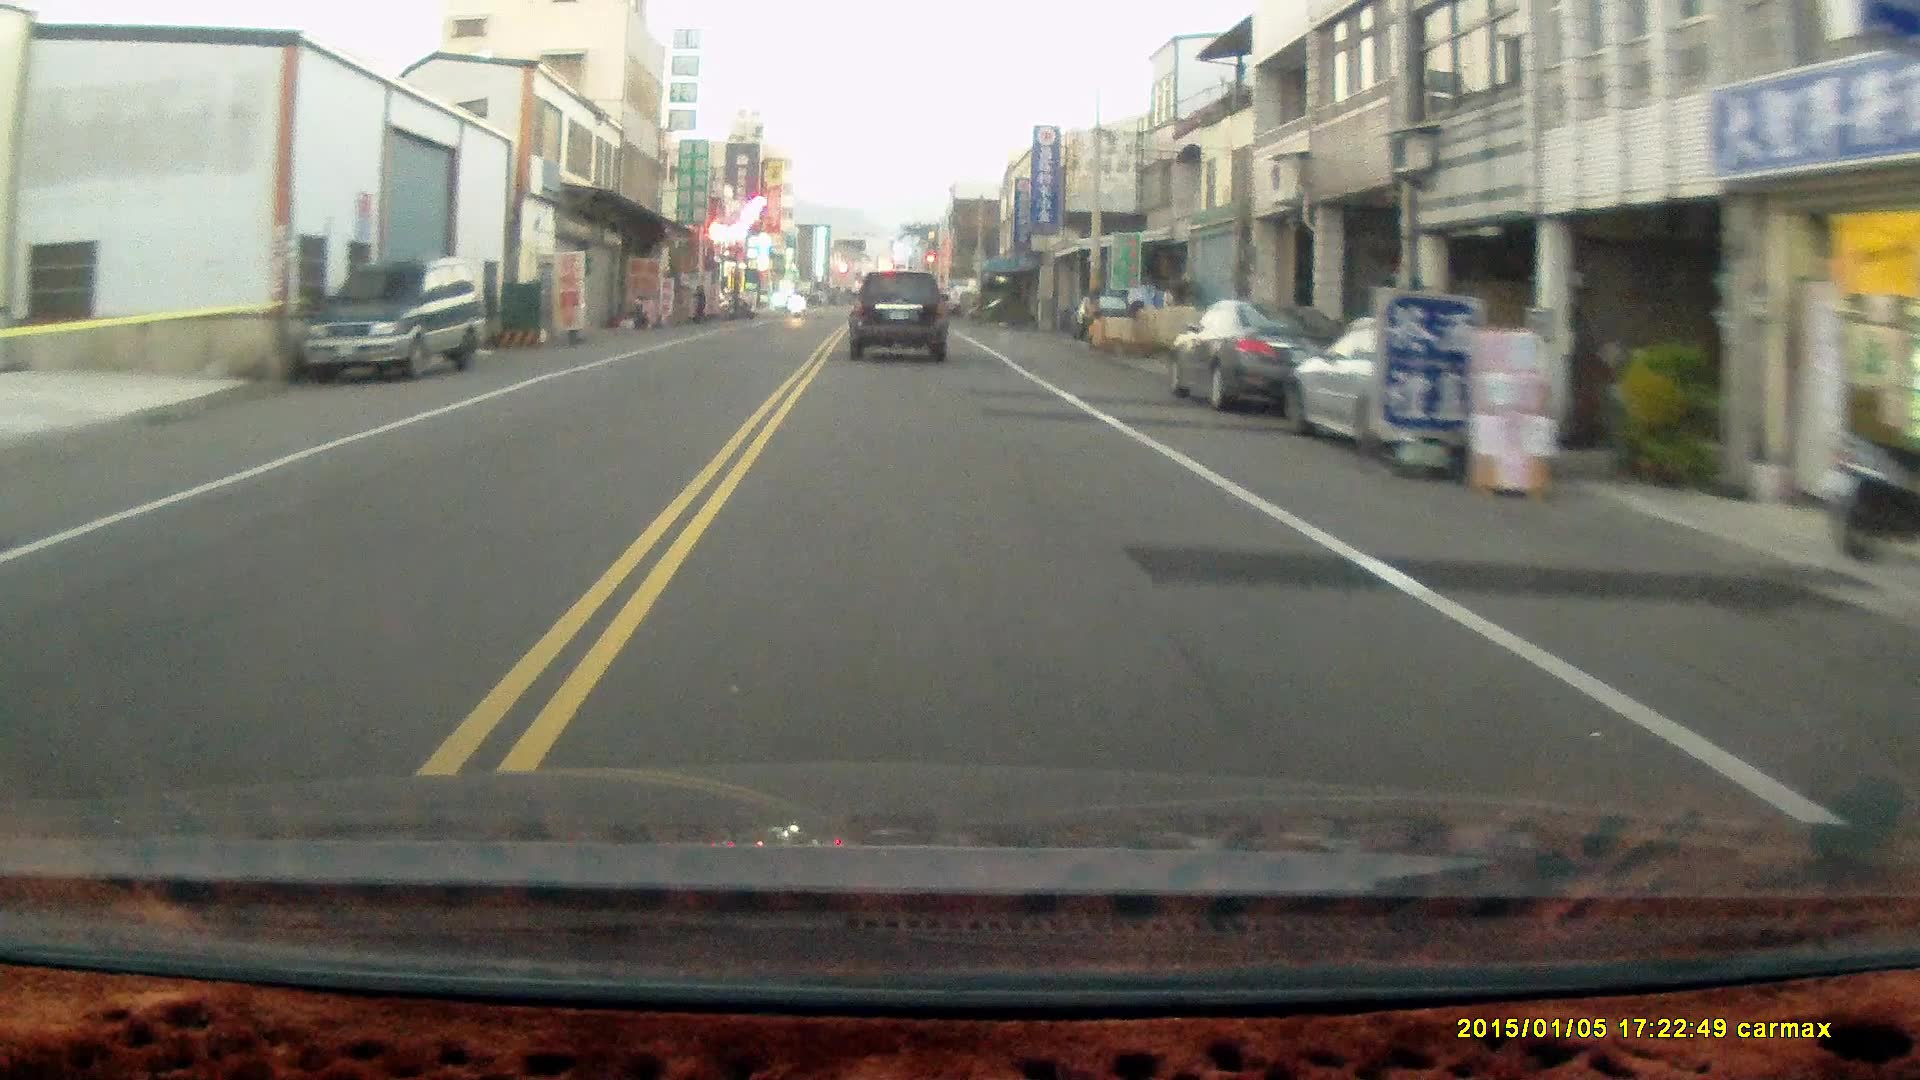vehicle: (1286, 320, 1548, 465), (295, 255, 488, 382), (1164, 301, 1354, 417), (847, 269, 951, 363)
